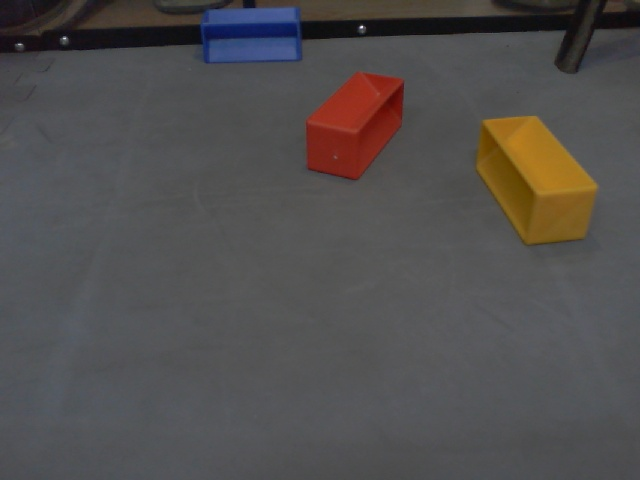BlueSample: (198, 6, 304, 65)
RedSample: (303, 69, 405, 181)
YellowSample: (470, 110, 602, 251)
